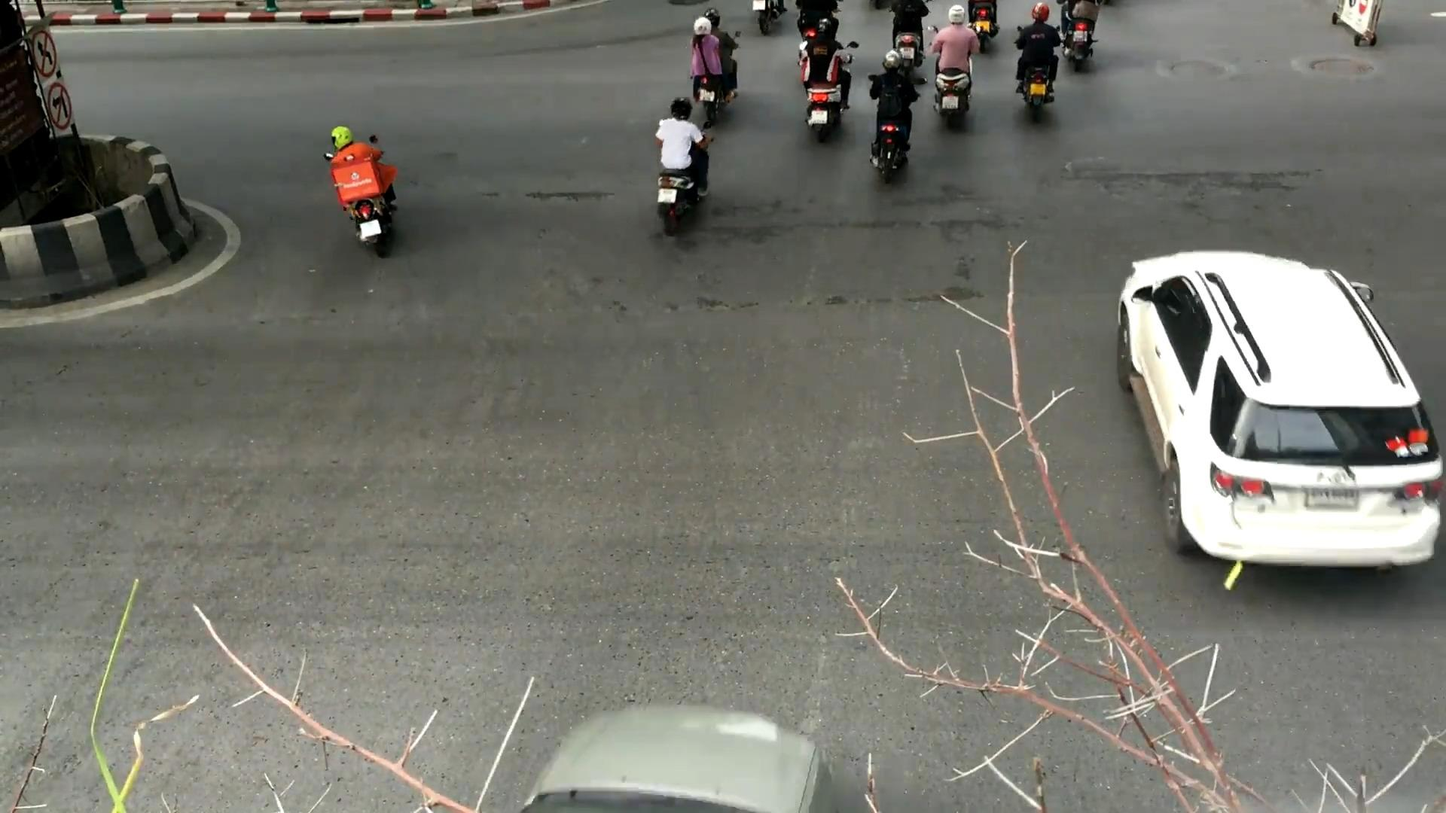driver: (324, 126, 399, 259), (655, 97, 715, 237), (798, 18, 859, 143), (927, 4, 984, 130), (868, 49, 921, 184), (690, 8, 741, 127), (1013, 2, 1063, 122)
helmet: (331, 126, 354, 153), (670, 97, 692, 121), (883, 49, 901, 74), (815, 18, 834, 38), (948, 4, 966, 25), (1032, 2, 1049, 22), (694, 17, 712, 35), (704, 8, 721, 27)
